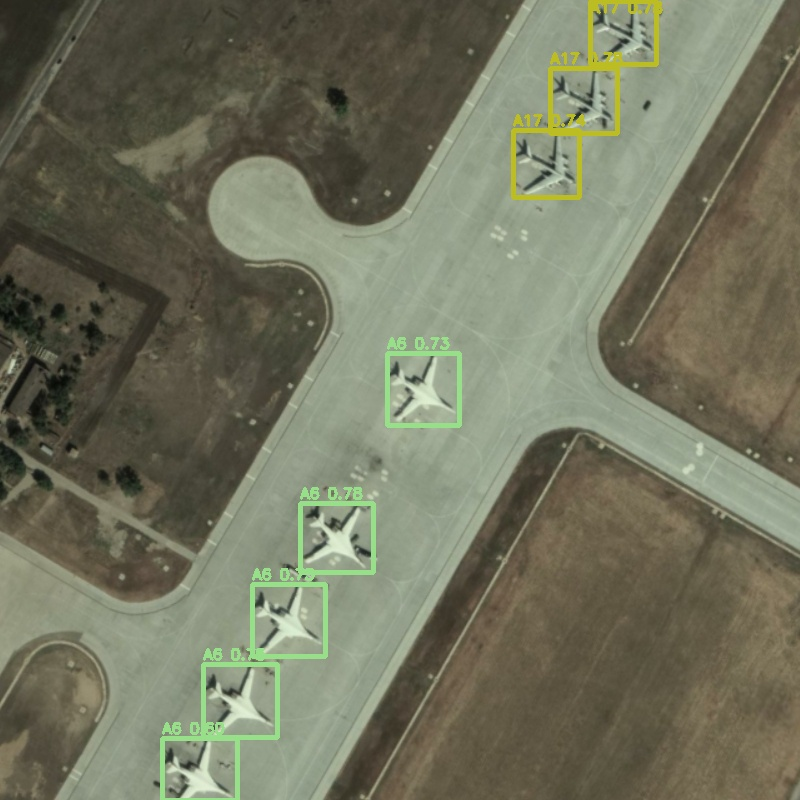A17: (513, 130, 579, 197), (550, 68, 617, 133), (590, 1, 656, 64)
A6: (203, 664, 277, 737), (252, 584, 325, 656), (387, 353, 459, 425), (300, 503, 373, 572), (162, 738, 237, 800)
